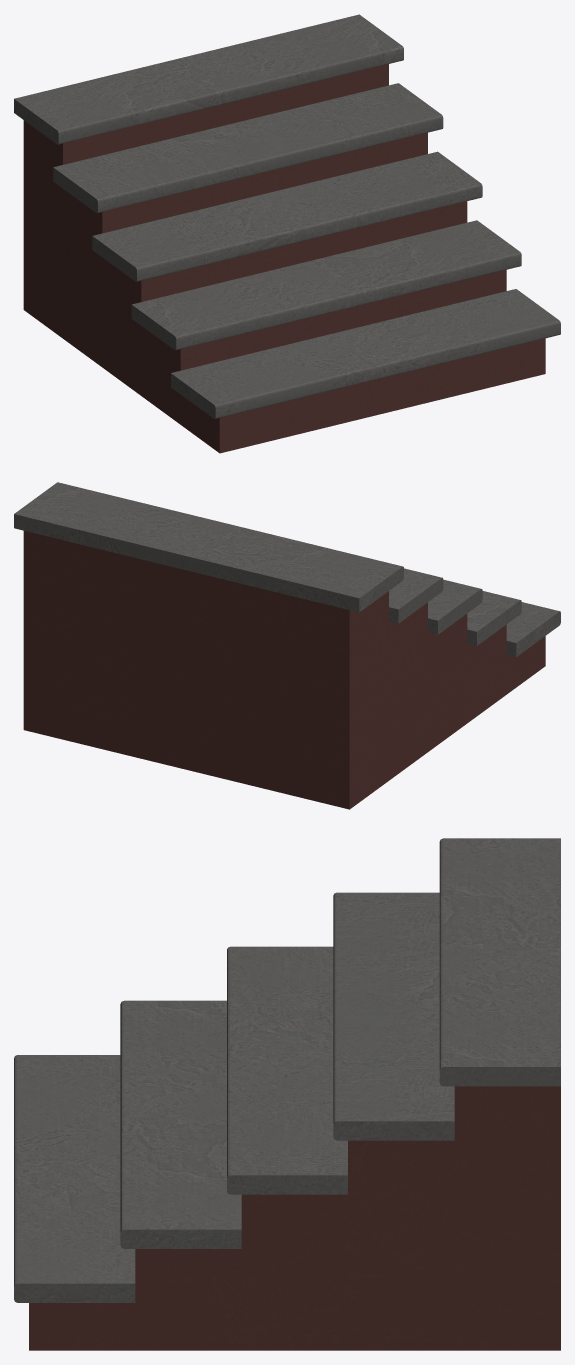
Rendered from Sm_Steps01.glb.
3 views of the same model, one above another, from view 1: azimuth 30°, elevation 25°; view 2: azimuth 150°, elevation 25°; view 3: azimuth 270°, elevation 25° (orthographic). The views are drawn at different scales.
Visible parts, largest first — view 1: Sm_Steps01; view 2: Sm_Steps01; view 3: Sm_Steps01.
Boxes of the visible parts, left/top/right/bottom form: Sm_Steps01: left=14, top=14, right=560, bottom=453; Sm_Steps01: left=14, top=482, right=560, bottom=809; Sm_Steps01: left=14, top=838, right=560, bottom=1350.
Size of the model in its own units: 181 by 107 by 183.
2 materials, 2 textured.
